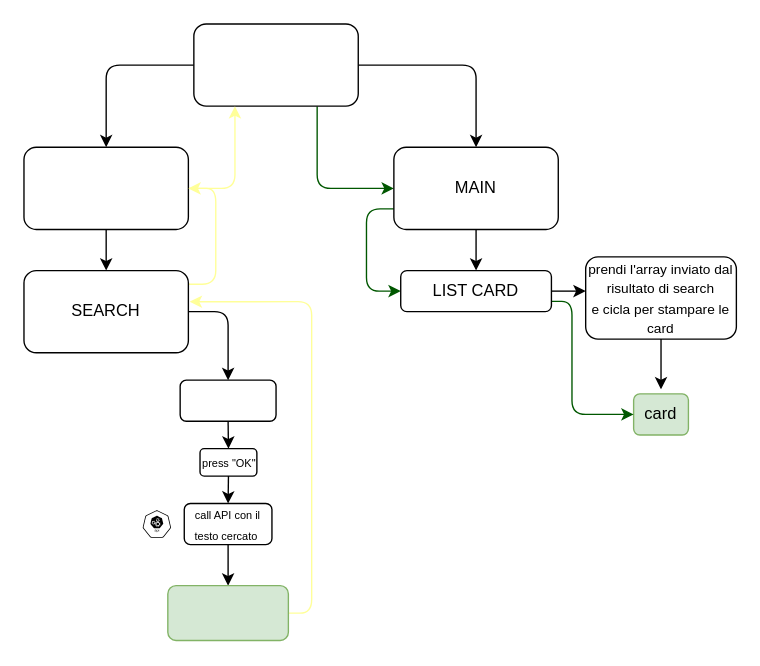
The diagram is 760 pixels wide and 666 high, and some of its shapes have lost their labels. Here are the shapes that lost their labels. From the top down, the box of each, then its label:
(192, 23, 358, 106): APP
(23, 146, 188, 229): HEADER
(179, 379, 276, 421): TEXT
(166, 584, 288, 640): crea un array di ogetti con il risultato ottenuto
